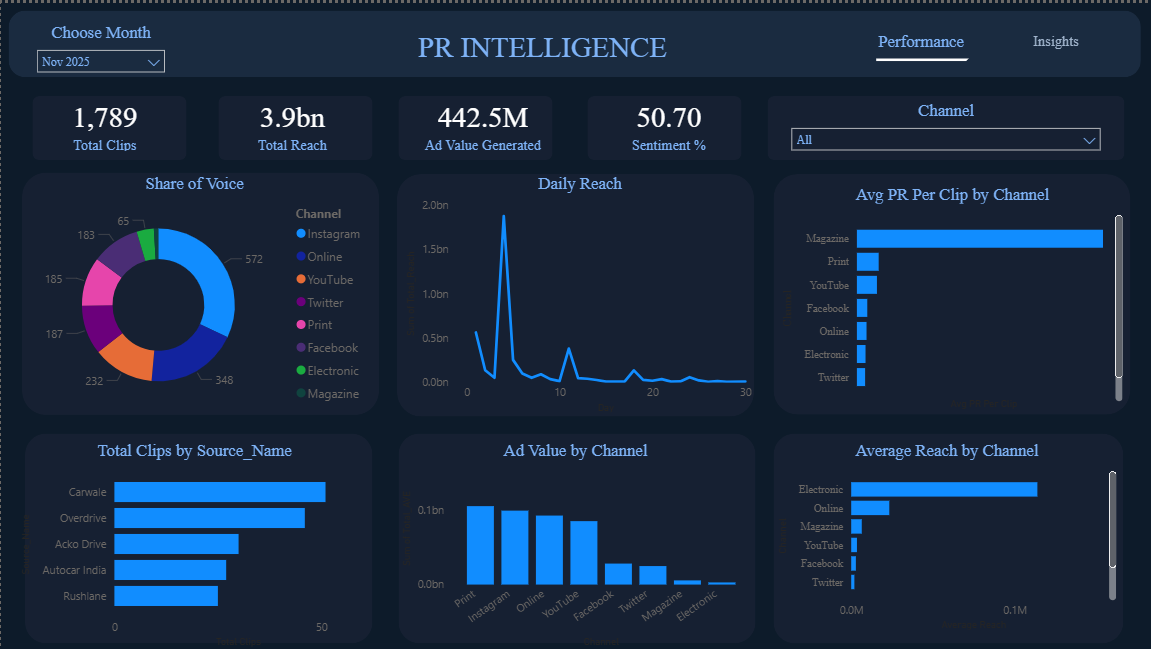

Layout of this report page (visuals, bound fields, positions):
{"tool":"powerbi","page":{"name":"Performance","canvas":[1280,720],"ordinal":0},"visuals":[{"type":"shape","box":[9.1,7.6,1258.3,74.2],"z":0,"group":"g5"},{"type":"shape","box":[35.3,102.9,171.1,71.2],"z":0,"group":"g1"},{"type":"shape","box":[442.1,478.5,396.7,233.2],"z":0},{"type":"textbox","box":[458.8,24.3,311.9,50],"z":1000,"group":"g5"},{"type":"shape","box":[651.6,102.9,171.1,71.2],"z":1000,"group":"g4"},{"type":"shape","box":[858.2,189.7,396.4,267.4],"z":1000},{"type":"pageNavigator","box":[964.7,11.5,290.7,62.8],"z":2000,"group":"g5"},{"type":"shape","box":[440.6,189.3,396.7,269.5],"z":2000},{"type":"shape","box":[22.7,187.8,396.7,269.5],"z":3000},{"type":"lineChart","title":"Daily Reach","fields":{"Category":["Print.Date.Variation.Date Hierarchy.Day"],"Y":["Sum(Print.Total_Reach)"]},"box":[445.2,189.3,396.7,269.5],"z":4000},{"type":"donutChart","title":"Share of Voice","fields":{"Category":["Print.Channel"],"Y":["Print.Total Clips"]},"box":[16.7,189.3,396.7,269.5],"z":5000},{"type":"columnChart","title":"Ad Value by Channel","fields":{"Category":["Print.Channel"],"Y":["Sum(Print.Total_AVE)"]},"box":[440.6,486.1,396.7,233.2],"z":6000},{"type":"shape","box":[27.3,478.5,386.1,233.2],"z":7000},{"type":"barChart","fields":{"Category":["Print.Source_Name"],"Y":["Print.Total Clips"]},"box":[16.7,486.4,397,233.3],"z":8000},{"type":"shape","box":[858.2,478.8,388.7,233.2],"z":9000},{"type":"group","id":"g1","title":"Group 2","box":[24.7,98.4,181.7,75.7],"z":10000},{"type":"card","fields":{"Values":["Print.Total Clips"]},"box":[24.7,98.4,180.2,71.2],"z":10000,"group":"g1"},{"type":"group","id":"g2","title":"Group 3","box":[233.7,98.4,180.2,75.7],"z":11000},{"type":"shape","box":[241.3,102.9,171.1,71.2],"z":11000,"group":"g2"},{"type":"group","id":"g3","title":"Group 4","box":[441.1,98.4,183.2,75.7],"z":12000},{"type":"card","fields":{"Values":["Sum(Print.Total_Reach)"]},"box":[233.7,98.4,180.2,71.2],"z":13000,"group":"g2"},{"type":"group","id":"g4","title":"Group 5","box":[651.6,98.4,180.2,75.7],"z":13000},{"type":"shape","box":[441.1,102.9,171.1,71.2],"z":14000,"group":"g3"},{"type":"shape","box":[851,103,396.7,71.2],"z":14000},{"type":"slicer","title":"Channel","fields":{"Values":["Print.Channel"]},"box":[867.6,107.5,363.4,71.2],"z":15000},{"type":"card","fields":{"Values":["Sum(Print.Total_AVE)"]},"box":[444.1,98.4,180.2,71.2],"z":16000,"group":"g3"},{"type":"barChart","fields":{"Category":["Print.Channel"],"Y":["Print.Avg PR Per Clip"]},"box":[863.1,201.4,387.6,254.4],"z":16000},{"type":"card","fields":{"Values":["Print.Sentiment %"]},"box":[651.6,98.4,180.2,71.2],"z":17000,"group":"g4"},{"type":"barChart","fields":{"Category":["Print.Channel"],"Y":["Avg(Print.Avg_Reach)"]},"box":[858.2,486.6,385.6,214.5],"z":17000},{"type":"group","id":"g5","title":"Group 1","box":[9.1,7.6,1258.3,74.2],"z":18000},{"type":"slicer","title":"Choose Month","fields":{"Values":["Print.Month"]},"box":[30.2,20.4,162,59.1],"z":18001,"group":"g5"}]}

Visuals, with their boxes in screenshot pixels (x1, y1, x2, y2), scaled from the page's 1280x720 canvas onto the 1151x649 screenshot:
shape: pyautogui.locateOnScreen(8, 7, 1140, 74)
shape: pyautogui.locateOnScreen(32, 93, 186, 157)
shape: pyautogui.locateOnScreen(398, 431, 754, 642)
textbox: pyautogui.locateOnScreen(413, 22, 693, 67)
shape: pyautogui.locateOnScreen(586, 93, 740, 157)
shape: pyautogui.locateOnScreen(772, 171, 1128, 412)
pageNavigator: pyautogui.locateOnScreen(867, 10, 1129, 67)
shape: pyautogui.locateOnScreen(396, 171, 753, 414)
shape: pyautogui.locateOnScreen(20, 169, 377, 412)
"Daily Reach" lineChart: pyautogui.locateOnScreen(400, 171, 757, 414)
"Share of Voice" donutChart: pyautogui.locateOnScreen(15, 171, 372, 414)
"Ad Value by Channel" columnChart: pyautogui.locateOnScreen(396, 438, 753, 648)
shape: pyautogui.locateOnScreen(25, 431, 372, 642)
barChart - Print.Source_Name x Print.Total Clips: pyautogui.locateOnScreen(15, 438, 372, 648)
shape: pyautogui.locateOnScreen(772, 432, 1121, 642)
"Group 2" group: pyautogui.locateOnScreen(22, 89, 186, 157)
card - Print.Total Clips: pyautogui.locateOnScreen(22, 89, 184, 153)
"Group 3" group: pyautogui.locateOnScreen(210, 89, 372, 157)
shape: pyautogui.locateOnScreen(217, 93, 371, 157)
"Group 4" group: pyautogui.locateOnScreen(397, 89, 561, 157)
card - Sum(Print.Total_Reach): pyautogui.locateOnScreen(210, 89, 372, 153)
"Group 5" group: pyautogui.locateOnScreen(586, 89, 748, 157)
shape: pyautogui.locateOnScreen(397, 93, 551, 157)
shape: pyautogui.locateOnScreen(765, 93, 1122, 157)
"Channel" slicer: pyautogui.locateOnScreen(780, 97, 1107, 161)
card - Sum(Print.Total_AVE): pyautogui.locateOnScreen(399, 89, 561, 153)
barChart - Print.Channel x Print.Avg PR Per Clip: pyautogui.locateOnScreen(776, 182, 1125, 411)
card - Print.Sentiment %: pyautogui.locateOnScreen(586, 89, 748, 153)
barChart - Print.Channel x Avg(Print.Avg_Reach): pyautogui.locateOnScreen(772, 439, 1118, 632)
"Group 1" group: pyautogui.locateOnScreen(8, 7, 1140, 74)
"Choose Month" slicer: pyautogui.locateOnScreen(27, 18, 173, 72)
